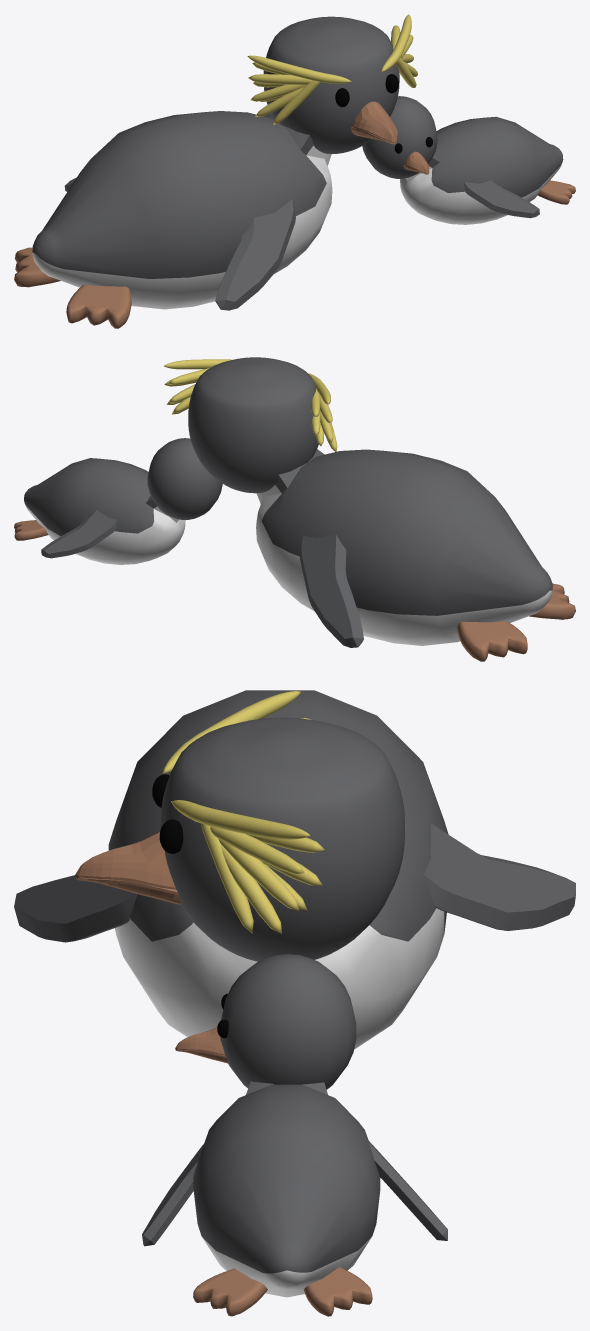
The model's file is Penguins.fbx.
The picture shows the model from 3 angles, top to bottom: view 1: azimuth 30°, elevation 25°; view 2: azimuth 150°, elevation 25°; view 3: azimuth 270°, elevation 25°; orthographic projection. The views are drawn at different scales.
Visible parts, largest first — view 1: polySurface4108; view 2: polySurface4108; view 3: polySurface4108.
Part boxes in pixels (x1,y1,x2,y2): polySurface4108: (14,14,575,328); polySurface4108: (14,357,575,661); polySurface4108: (14,690,575,1316).
Size of the model in its own units: 0.5829 by 0.2463 by 0.2988.
